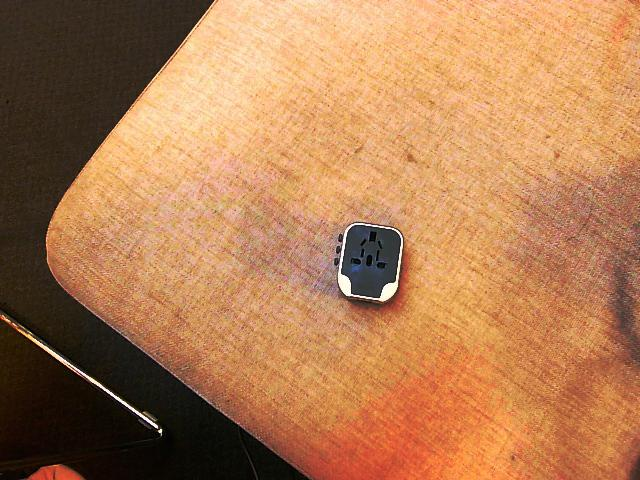adapter: (332, 220, 403, 303)
